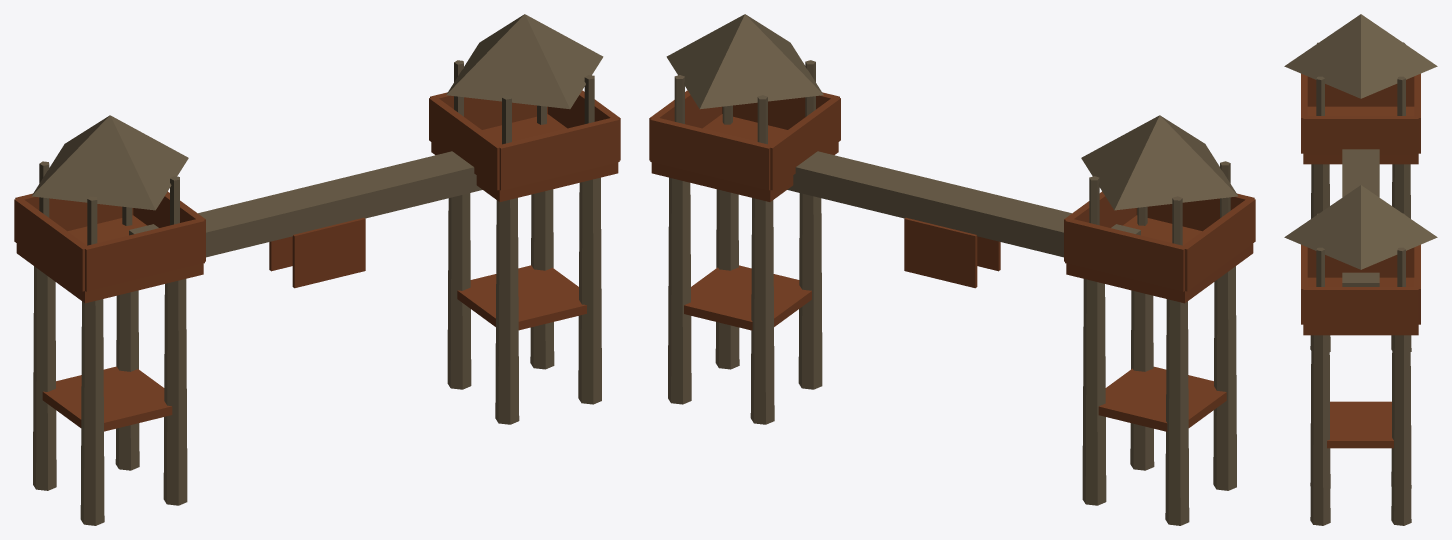
File: ratfolk_gate_broken.glb
3 views of the same model, side by side, from view 1: azimuth 30°, elevation 25°; view 2: azimuth 150°, elevation 25°; view 3: azimuth 270°, elevation 25° (orthographic). The views are drawn at different scales.
Parts seen in each view (by area): view 1: ratfolk_gate_piece7, ratfolk_gate_piece5, ratfolk_gate_piece8, ratfolk_gate_piece11, ratfolk_gate_piece10, ratfolk_gate_piece3, ratfolk_gate_piece9, ratfolk_gate_piece0, ratfolk_gate_piece13, ratfolk_gate_piece6, ratfolk_gate_piece2, ratfolk_gate_piece4 (+2 smaller); view 2: ratfolk_gate_piece3, ratfolk_gate_piece6, ratfolk_gate_piece12, ratfolk_gate_piece5, ratfolk_gate_piece9, ratfolk_gate_piece11, ratfolk_gate_piece0, ratfolk_gate_piece7, ratfolk_gate_piece8, ratfolk_gate_piece10, ratfolk_gate_piece1, ratfolk_gate_piece2 (+2 smaller); view 3: ratfolk_gate_piece8, ratfolk_gate_piece6, ratfolk_gate_piece4, ratfolk_gate_piece2, ratfolk_gate_piece7, ratfolk_gate_piece5, ratfolk_gate_piece12, ratfolk_gate_piece3, ratfolk_gate_piece1, ratfolk_gate_piece9, ratfolk_gate_piece10, ratfolk_gate_piece11.
Boxes of the visible parts, <box> form: ratfolk_gate_piece7: <box>32,115,197,407</box>; ratfolk_gate_piece5: <box>428,133,601,424</box>; ratfolk_gate_piece8: <box>481,14,620,284</box>; ratfolk_gate_piece11: <box>33,294,186,525</box>; ratfolk_gate_piece10: <box>342,96,571,208</box>; ratfolk_gate_piece3: <box>14,118,109,453</box>; ratfolk_gate_piece9: <box>429,61,497,308</box>; ratfolk_gate_piece0: <box>115,178,409,502</box>; ratfolk_gate_piece13: <box>163,189,381,505</box>; ratfolk_gate_piece6: <box>61,134,301,307</box>; ratfolk_gate_piece2: <box>74,129,216,386</box>; ratfolk_gate_piece4: <box>518,106,578,369</box>; ratfolk_gate_piece3: <box>1129,125,1228,498</box>; ratfolk_gate_piece6: <box>964,143,1131,411</box>; ratfolk_gate_piece12: <box>649,37,770,261</box>; ratfolk_gate_piece5: <box>715,98,831,424</box>; ratfolk_gate_piece9: <box>728,63,823,384</box>; ratfolk_gate_piece11: <box>1089,290,1236,525</box>; ratfolk_gate_piece0: <box>884,167,1151,505</box>; ratfolk_gate_piece7: <box>1134,115,1255,420</box>; ratfolk_gate_piece8: <box>666,14,810,259</box>; ratfolk_gate_piece10: <box>788,41,907,270</box>; ratfolk_gate_piece1: <box>668,47,795,404</box>; ratfolk_gate_piece2: <box>1082,129,1142,472</box>; ratfolk_gate_piece8: <box>1287,185,1395,445</box>; ratfolk_gate_piece6: <box>1342,46,1437,218</box>; ratfolk_gate_piece4: <box>1320,242,1410,525</box>; ratfolk_gate_piece2: <box>1301,40,1419,207</box>; ratfolk_gate_piece7: <box>1284,14,1371,173</box>; ratfolk_gate_piece5: <box>1301,260,1411,525</box>; ratfolk_gate_piece12: <box>1380,198,1437,405</box>; ratfolk_gate_piece3: <box>1368,19,1420,218</box>; ratfolk_gate_piece1: <box>1359,280,1411,525</box>; ratfolk_gate_piece9: <box>1342,213,1420,455</box>; ratfolk_gate_piece10: <box>1284,213,1345,286</box>; ratfolk_gate_piece11: <box>1311,164,1329,218</box>.
Size of the model in its own units: 4.83 by 3.05 by 1.33.
